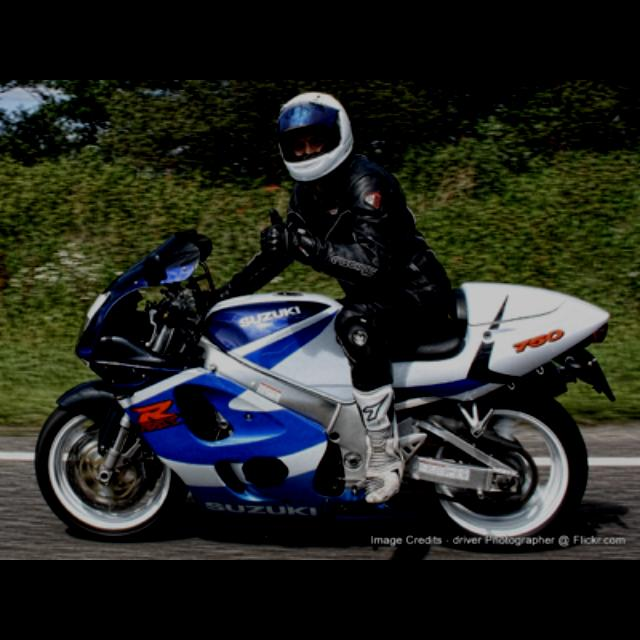With Helmet: (270, 91, 362, 187)
